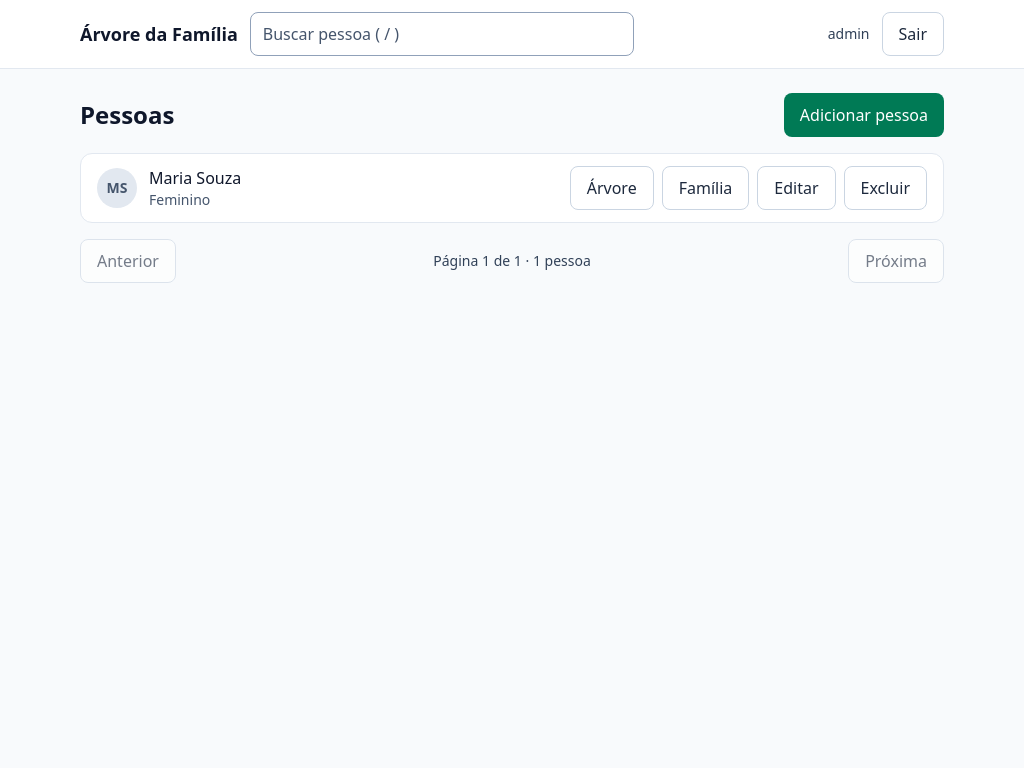
Scenario: relacionamentos na UI › cadastra o pai em poucos cliques (cria a pessoa e o vinculo)
Click the button "Família" at (706, 188), box [662,166,749,210]
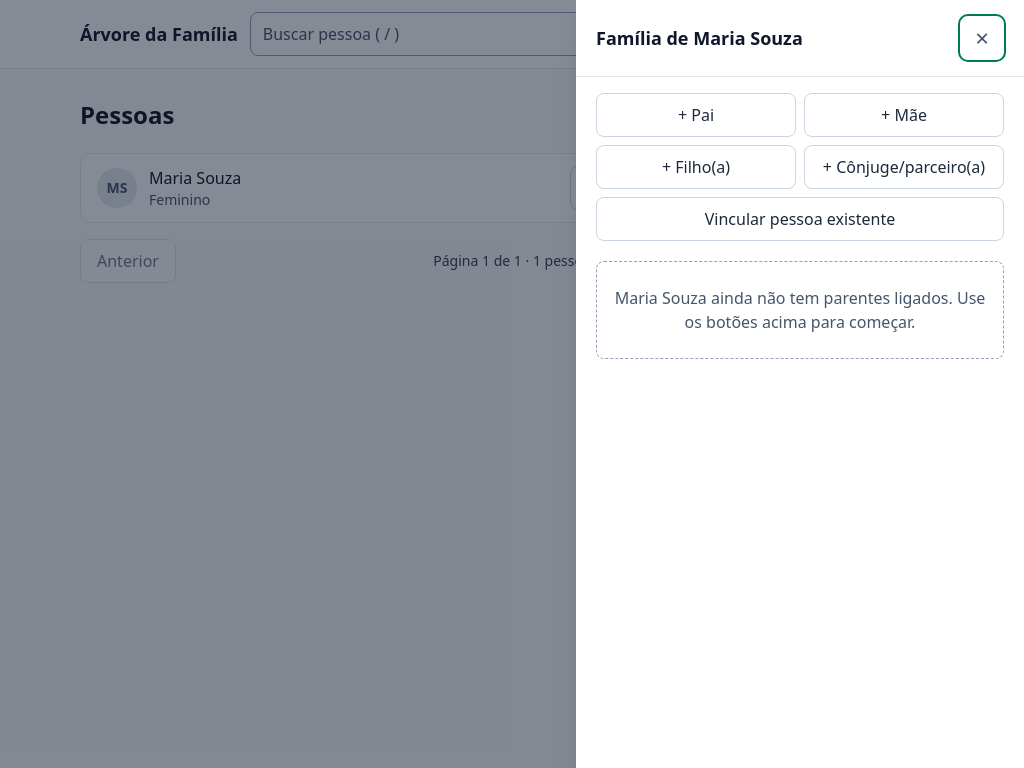
Click the button "+ Pai" at (696, 115), box [596,93,796,137]
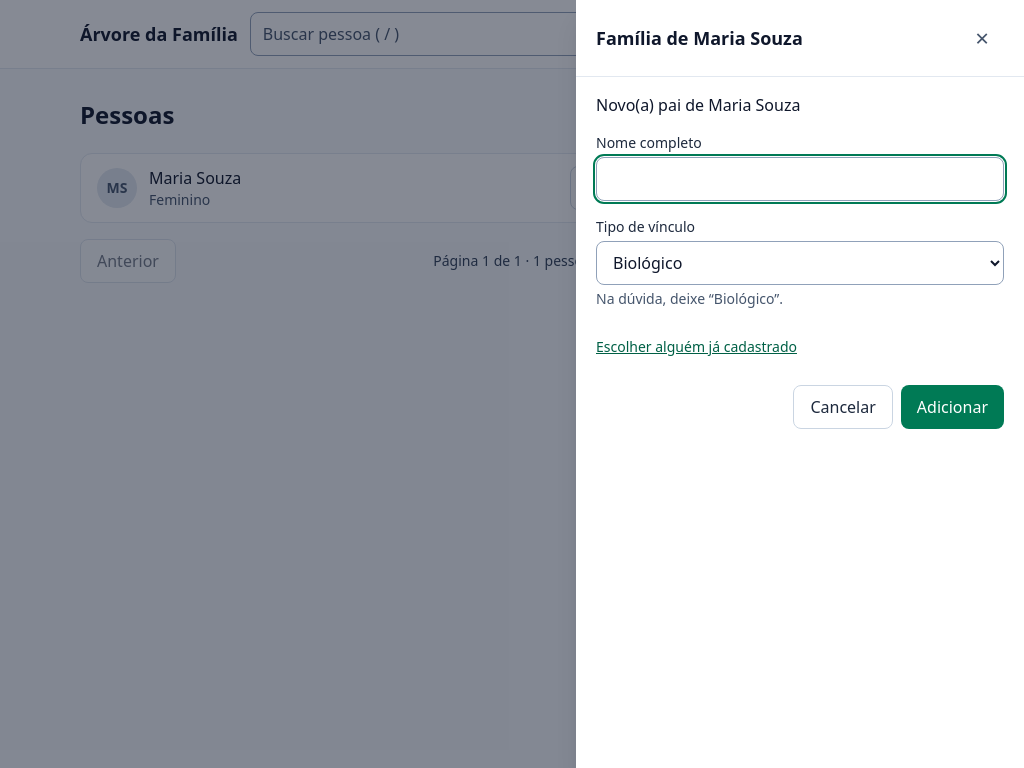
Type "João Souza" into the field labelled "Nome completo" at (800, 179), box [596,157,1004,201]
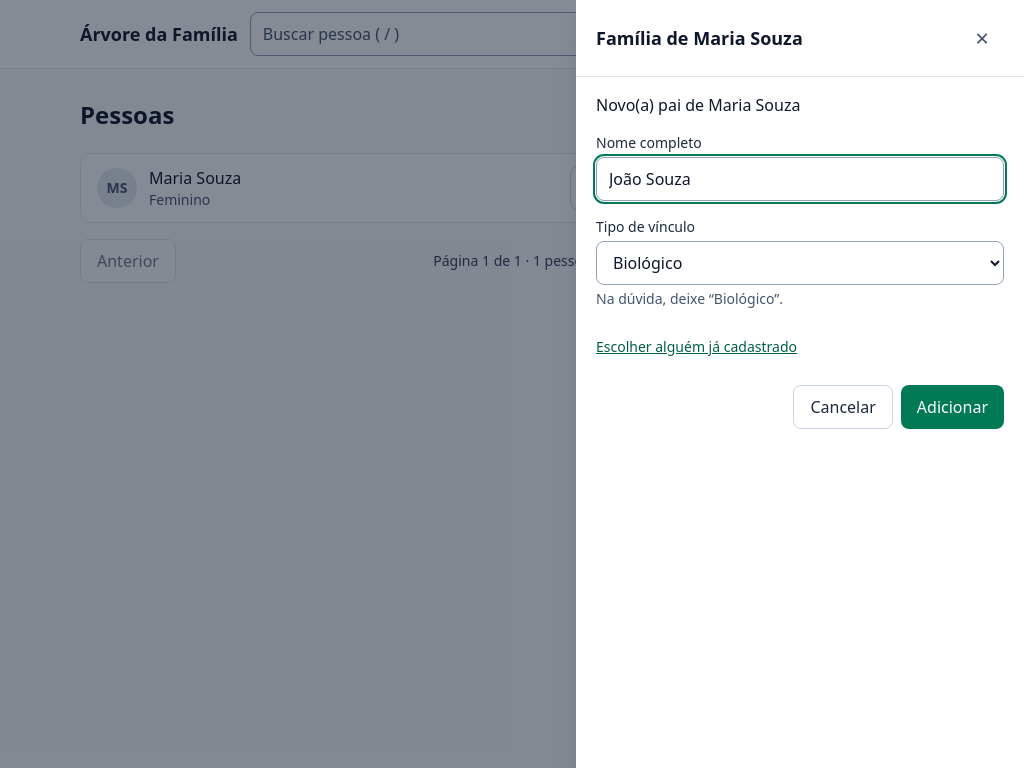
Click the button "Adicionar" at (952, 407), box [901,385,1004,429]
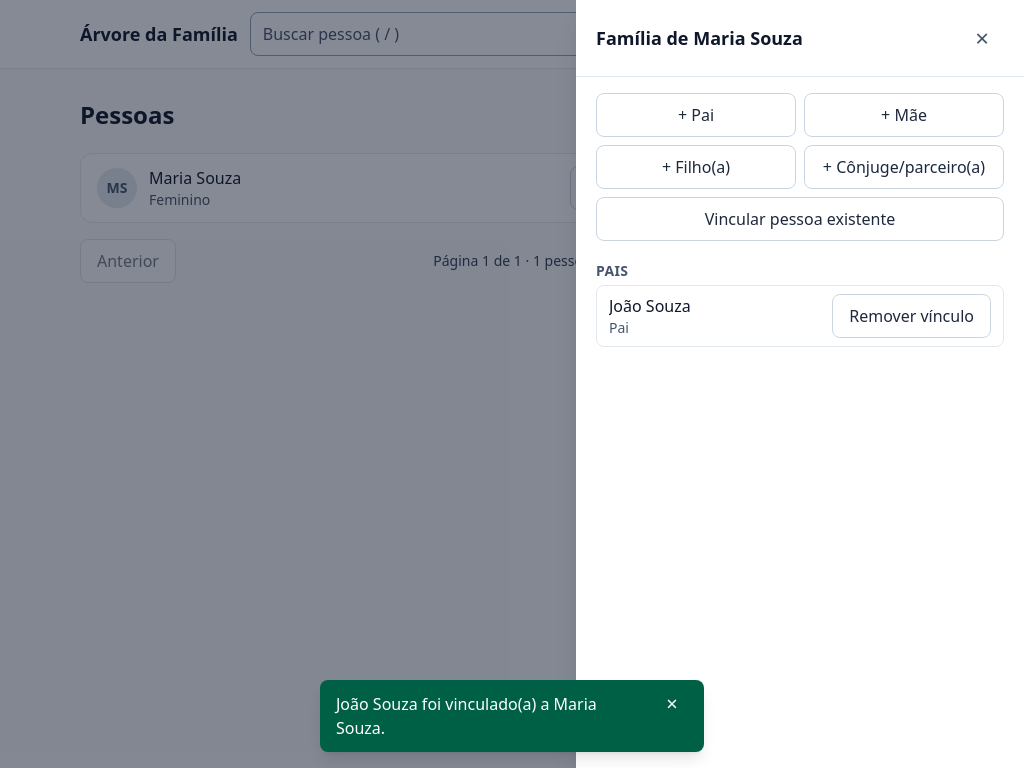
Check: the text "João Souza foi vinculado(a) a Maria Souza." is shown, box [336,693,597,739]
